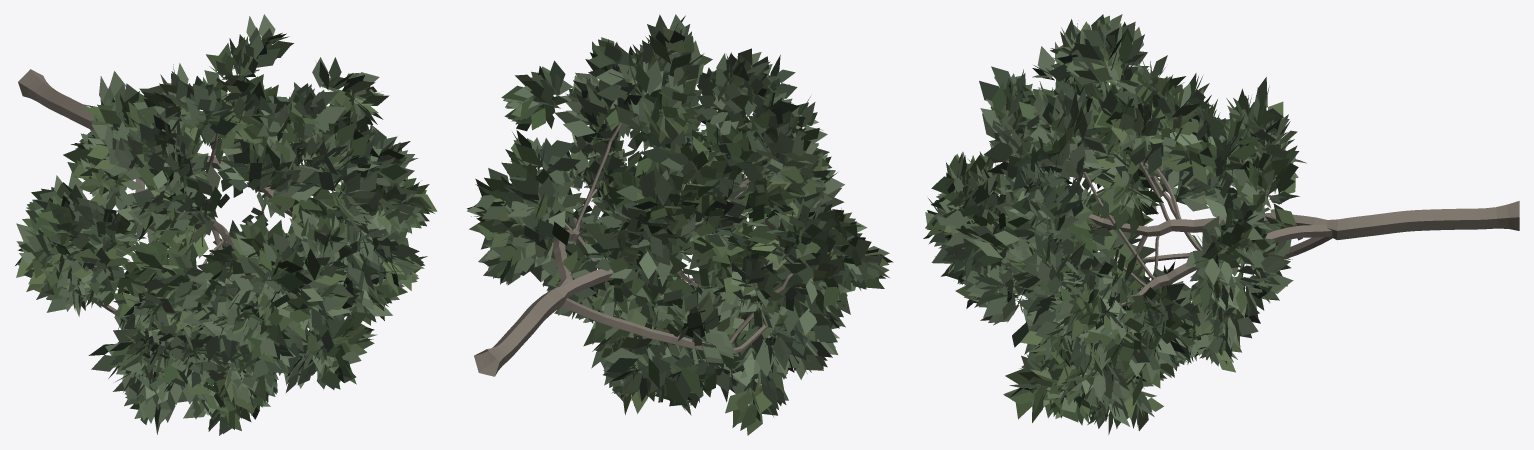
Rendered from tree_mid_08.obj.
3 views of the same model, side by side, from view 1: azimuth 30°, elevation 25°; view 2: azimuth 150°, elevation 25°; view 3: azimuth 270°, elevation 25° (orthographic). The views are drawn at different scales.
Parts seen in each view (by area): view 1: tree_mid_08; view 2: tree_mid_08; view 3: tree_mid_08.
Part boxes in pixels (x1=…): tree_mid_08: x1=15, y1=14, x2=437, y2=435; tree_mid_08: x1=467, y1=14, x2=893, y2=435; tree_mid_08: x1=923, y1=14, x2=1519, y2=434.
Size of the model in its own units: 0.8272 by 0.7388 by 1.
Materials: 1 (1 with a texture image).
